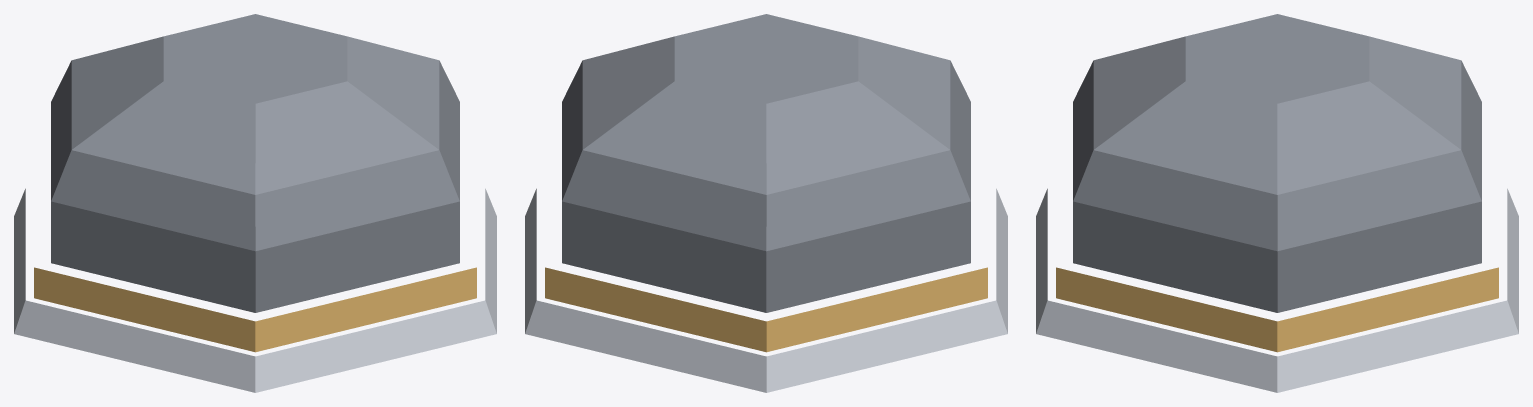
File: hangar_roundglass.016_lev1_lev2.glb
3 renders of one model, left to right at view 1: azimuth 30°, elevation 25°; view 2: azimuth 150°, elevation 25°; view 3: azimuth 270°, elevation 25°, orthographic.
Parts seen in each view (by area): view 1: hangar_roundglass.016_lev1_lev2; view 2: hangar_roundglass.016_lev1_lev2; view 3: hangar_roundglass.016_lev1_lev2.
Boxes of the visible parts, x1,y1,x2,y2 form: hangar_roundglass.016_lev1_lev2: (14,14,496,392); hangar_roundglass.016_lev1_lev2: (525,14,1007,392); hangar_roundglass.016_lev1_lev2: (1036,14,1518,392).
Bounding box in the file's own units: 1.63 × 0.6975 × 1.41.
